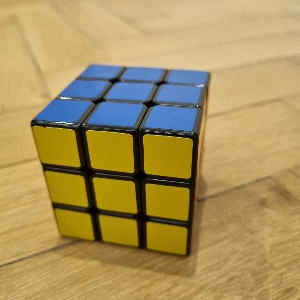cube: (30, 64, 211, 260)
